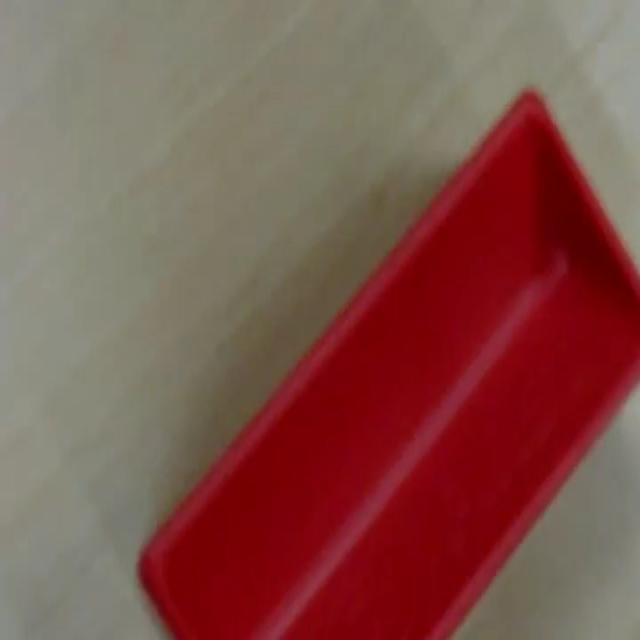red_block: (134, 85, 638, 638)
